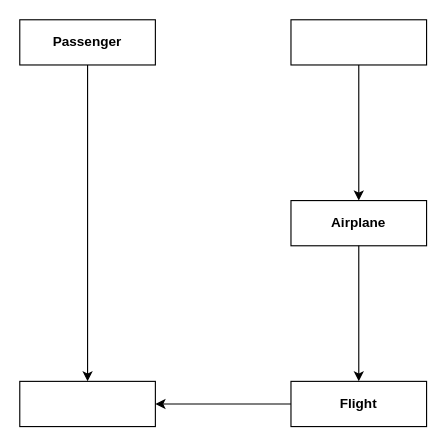
Image size: 446x446. Some labels were removed from this diagram. The centre of each missing label's shape, as x and y in pixels:
Airline: the point at 358,42
Ticket: the point at 87,403
